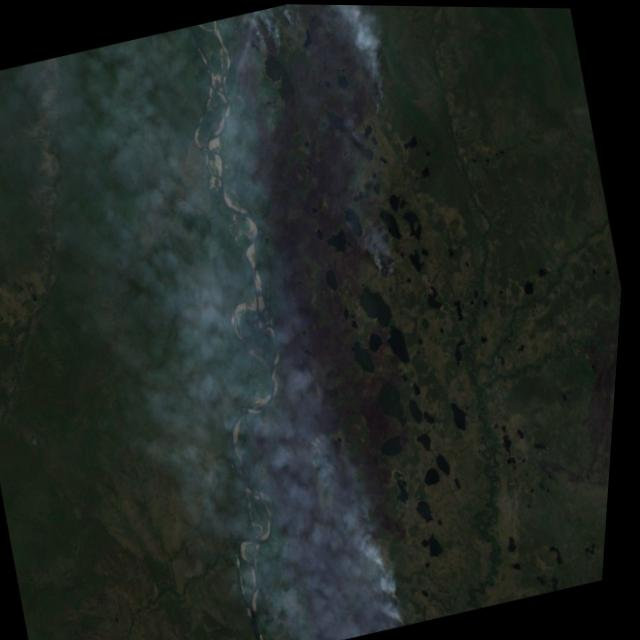fire: (326, 4, 403, 125), (371, 544, 423, 630), (236, 13, 289, 76), (366, 232, 412, 289), (278, 3, 307, 35)
